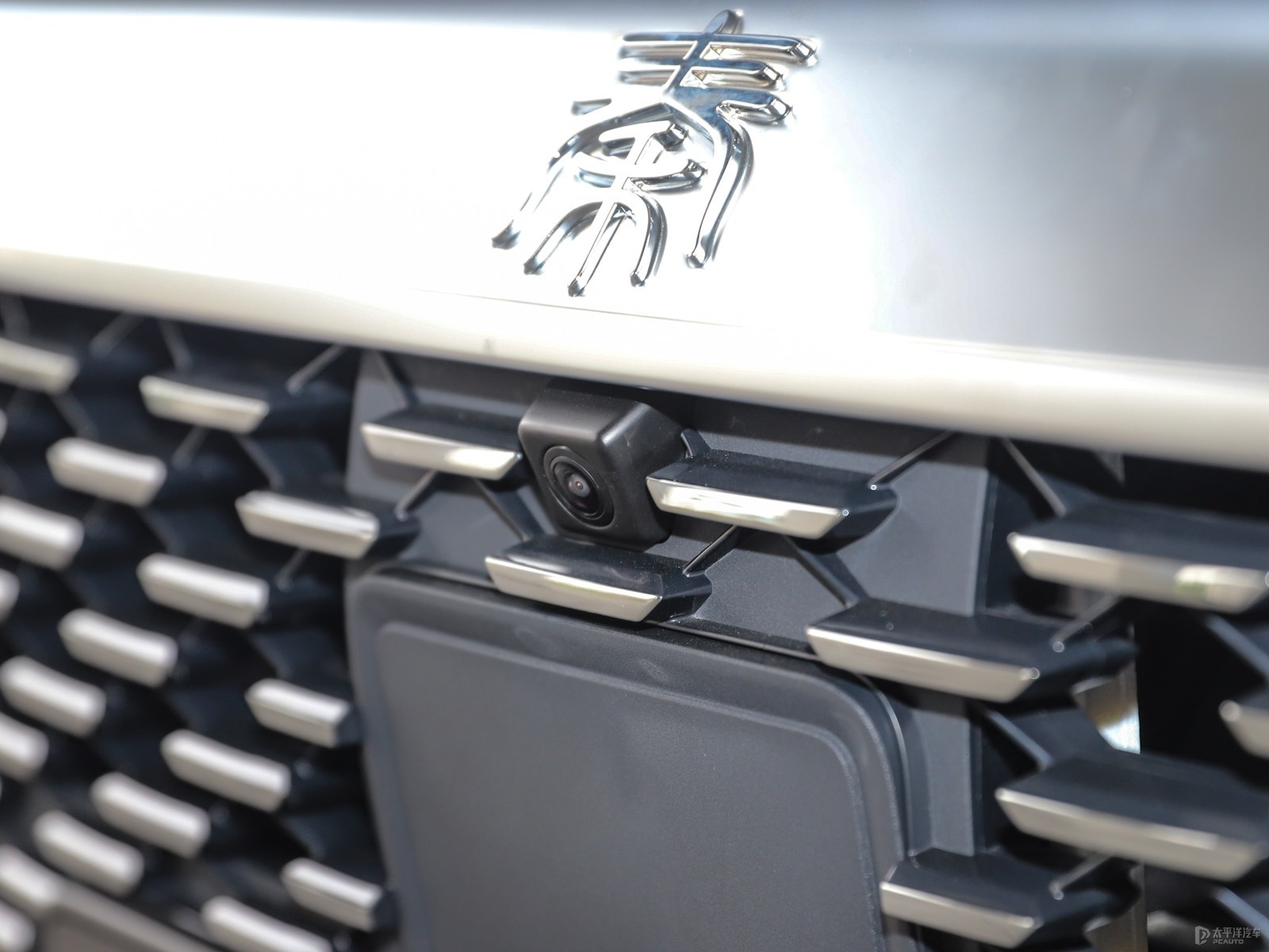BYD Qin: (492, 12, 815, 294)
